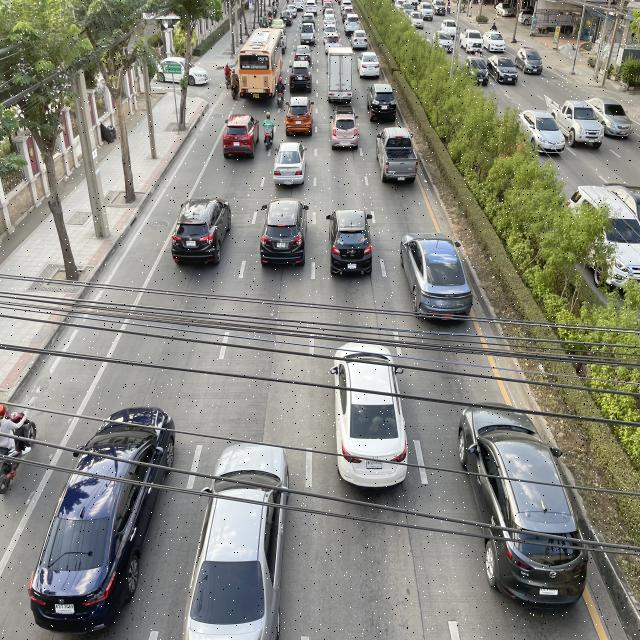bike: (260, 108, 278, 154)
bus: (236, 23, 284, 103)
car: (27, 401, 180, 631), (455, 380, 593, 614), (327, 338, 414, 491)
truck: (323, 45, 357, 108)
